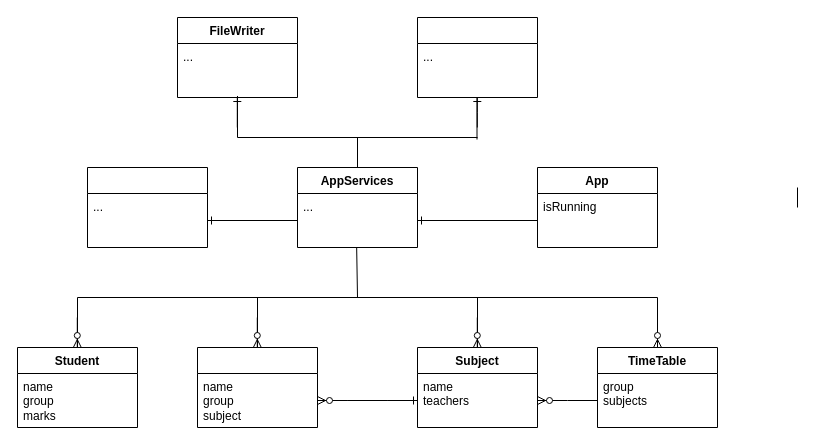
This 816x448 diagram has some shape labels left out. The shapes that lost their labels are listed below. From the top down, each one's box as (x1, y1, x2, y2) in pixels, then its label:
(416, 16, 538, 98): FileParser
(86, 166, 208, 248): UI
(196, 346, 318, 428): Teacher
